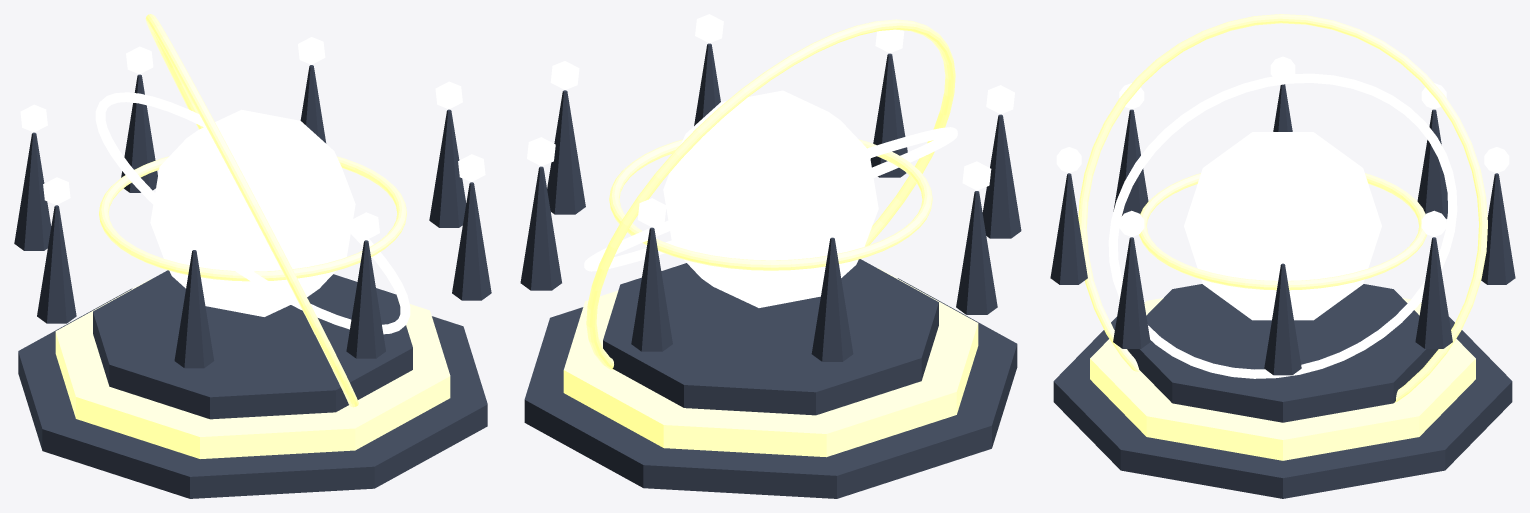
Rendered from gpu-blender-v8.glb.
3 renders of one model, left to right at view 1: azimuth 30°, elevation 25°; view 2: azimuth 150°, elevation 25°; view 3: azimuth 270°, elevation 25°, orthographic. The views are drawn at different scales.
Parts seen in each view (by area): view 1: Cylinder.002, SovereignCore_1nc0gn30.github.io, Cylinder, Cylinder.001, Torus.001, Torus.002, Torus, Cone.005, Cone.007, Cone.004, Cone.006, Cone (+11 smaller); view 2: Cylinder.002, SovereignCore_1nc0gn30.github.io, Cylinder, Cylinder.001, Torus.002, Torus.001, Torus, Cone.001, Cone.003, Cone.002, Cone.004, Cone (+11 smaller); view 3: SovereignCore_1nc0gn30.github.io, Cylinder.002, Cylinder, Cylinder.001, Torus.002, Torus.001, Torus, Cone, Cone.001, Cone.007, Cone.006, Cone.002 (+8 smaller).
Part boxes in pixels (bbox=[...]): Cylinder.002: bbox=[93, 270, 412, 419]; SovereignCore_1nc0gn30.github.io: bbox=[150, 109, 355, 316]; Cylinder: bbox=[18, 288, 487, 498]; Cylinder.001: bbox=[55, 278, 450, 458]; Torus.001: bbox=[95, 92, 410, 334]; Torus.002: bbox=[145, 14, 358, 407]; Torus: bbox=[99, 156, 406, 281]; Cone.005: bbox=[174, 250, 214, 368]; Cone.007: bbox=[452, 182, 491, 300]; Cone.004: bbox=[37, 205, 76, 323]; Cone.006: bbox=[346, 240, 385, 358]; Cone: bbox=[429, 109, 466, 227]; Cylinder.002: bbox=[603, 259, 938, 415]; SovereignCore_1nc0gn30.github.io: bbox=[663, 90, 878, 307]; Cylinder: bbox=[524, 278, 1017, 498]; Cylinder.001: bbox=[563, 268, 978, 457]; Torus.002: bbox=[586, 19, 955, 369]; Torus.001: bbox=[584, 127, 957, 271]; Torus: bbox=[609, 139, 932, 270]; Cone.001: bbox=[520, 166, 561, 290]; Cone.003: bbox=[811, 237, 853, 361]; Cone.002: bbox=[631, 227, 672, 351]; Cone.004: bbox=[956, 191, 997, 314]; Cone: bbox=[547, 90, 585, 214]; SovereignCore_1nc0gn30.github.io: bbox=[1184, 132, 1381, 320]; Cylinder.002: bbox=[1127, 284, 1438, 422]; Cylinder: bbox=[1053, 317, 1512, 498]; Cylinder.001: bbox=[1090, 298, 1475, 460]; Torus.002: bbox=[1078, 14, 1487, 402]; Torus.001: bbox=[1108, 73, 1457, 378]; Torus: bbox=[1139, 173, 1426, 290]; Cone: bbox=[1264, 263, 1301, 375]; Cone.001: bbox=[1415, 237, 1452, 348]; Cone.007: bbox=[1113, 237, 1150, 348]; Cone.006: bbox=[1050, 173, 1087, 284]; Cone.002: bbox=[1481, 173, 1515, 284].
Bounding box in the file's own units: 4.41 × 3.72 × 4.46.
